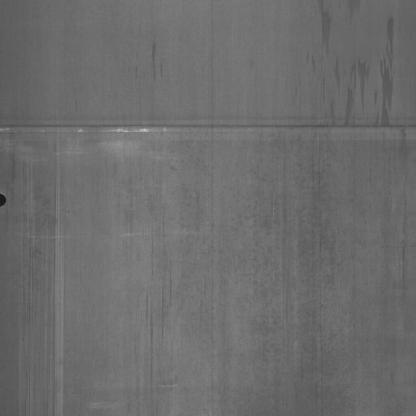punching_hole: (0, 177, 13, 216)
welding_line: (1, 107, 416, 138)
